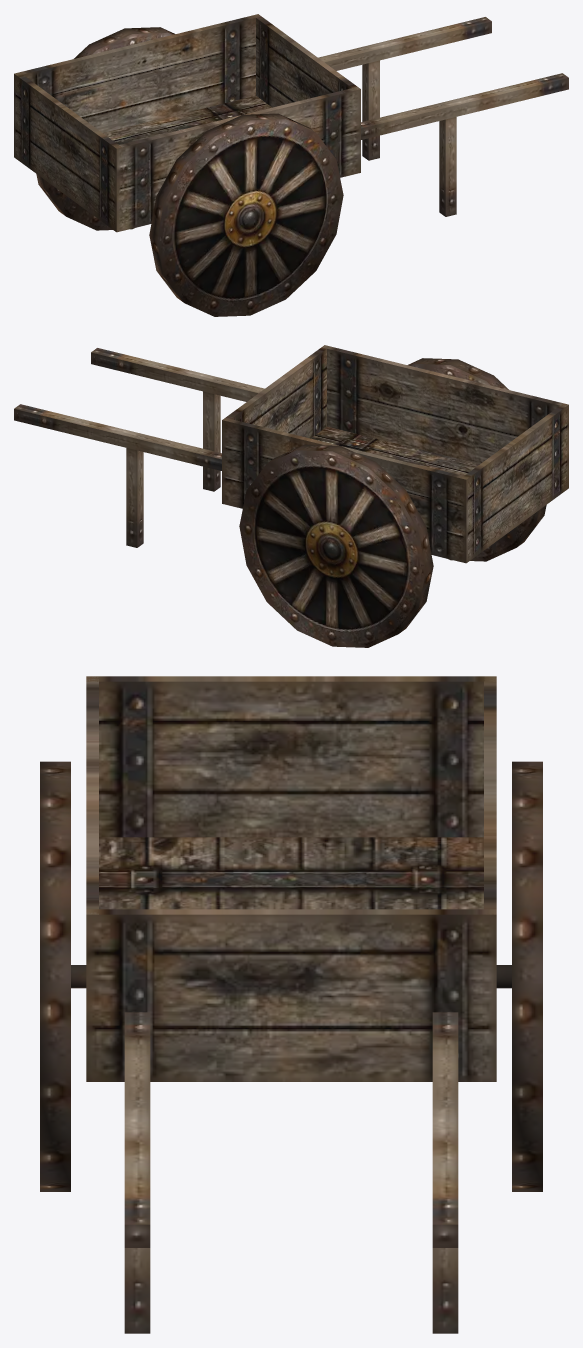
File: handcart.glb
3 renders of one model, top to bottom at view 1: azimuth 30°, elevation 25°; view 2: azimuth 150°, elevation 25°; view 3: azimuth 270°, elevation 25°, orthographic. The views are drawn at different scales.
Parts seen in each view (by area): view 1: GEO-handcart; view 2: GEO-handcart; view 3: GEO-handcart.
Part boxes in pixels (left/top/right/bottom): GEO-handcart: left=14, top=14, right=568, bottom=316; GEO-handcart: left=14, top=345, right=568, bottom=647; GEO-handcart: left=40, top=676, right=542, bottom=1333.
Size of the model in its own units: 2.08 by 0.84 by 0.98.
1 material, 1 textured.
